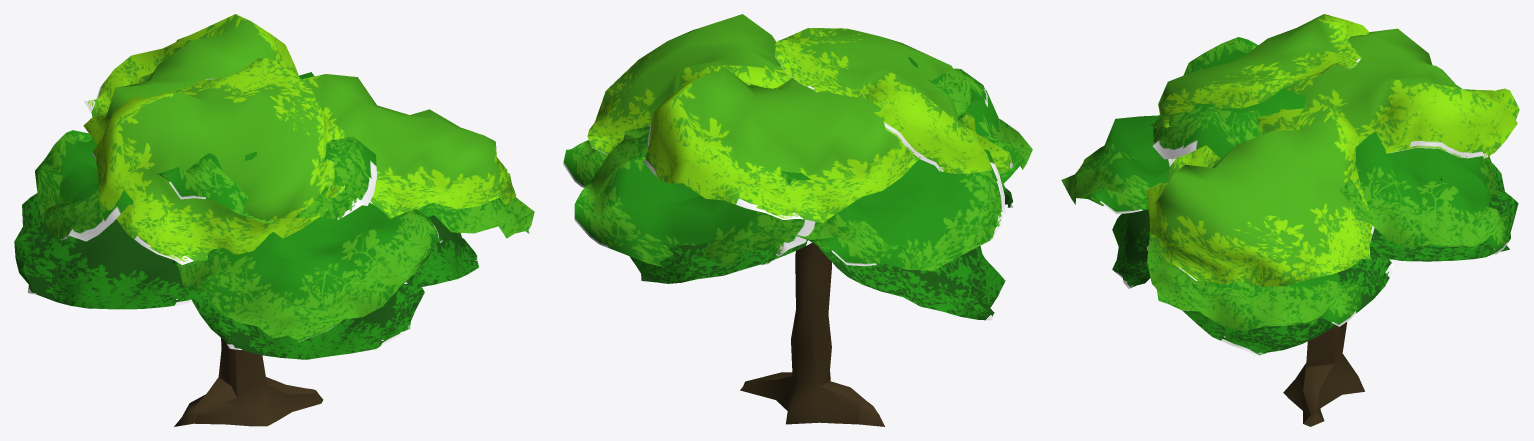
The model's file is dogwood.fbx.
The picture shows the model from 3 angles, left to right: view 1: azimuth 30°, elevation 25°; view 2: azimuth 150°, elevation 25°; view 3: azimuth 270°, elevation 25°; orthographic projection. The views are drawn at different scales.
Visible parts, largest first — view 1: pPlane18, pPlane14, pPlane17, pPlane10, pPlane19, pPlane6, pPlane13, pPlane15, pCube1, pPlane12, pPlane2; view 2: pPlane19, pPlane18, pPlane16, pPlane15, pPlane17, pCube1, pPlane10, pPlane11, pPlane14, pPlane13, pPlane12; view 3: pPlane17, pPlane19, pPlane16, pPlane18, pPlane12, pPlane13, pPlane14, pPlane2, pCube1, pPlane11, pPlane6.
Boxes of the visible parts, left/top/right/bottom form: pPlane18: left=92, top=58, right=344, bottom=264; pPlane14: left=172, top=203, right=442, bottom=342; pPlane17: left=302, top=74, right=516, bottom=217; pPlane10: left=14, top=193, right=192, bottom=309; pPlane19: left=83, top=14, right=298, bottom=144; pPlane6: left=188, top=261, right=424, bottom=359; pPlane13: left=157, top=136, right=376, bottom=223; pPlane15: left=35, top=130, right=133, bottom=241; pCube1: left=174, top=338, right=323, bottom=426; pPlane12: left=369, top=196, right=534, bottom=238; pPlane2: left=404, top=215, right=478, bottom=286; pPlane19: left=644, top=67, right=919, bottom=223; pPlane18: left=774, top=28, right=1012, bottom=173; pPlane16: left=574, top=88, right=815, bottom=267; pPlane15: left=792, top=149, right=1007, bottom=270; pPlane17: left=587, top=14, right=792, bottom=154; pCube1: left=740, top=242, right=884, bottom=426; pPlane10: left=818, top=246, right=1005, bottom=320; pPlane11: left=629, top=240, right=811, bottom=283; pPlane14: left=967, top=89, right=1032, bottom=184; pPlane13: left=908, top=57, right=987, bottom=120; pPlane12: left=563, top=140, right=607, bottom=187; pPlane17: left=1146, top=106, right=1374, bottom=286; pPlane19: left=1283, top=28, right=1519, bottom=158; pPlane16: left=1339, top=131, right=1510, bottom=254; pPlane18: left=1150, top=14, right=1369, bottom=128; pPlane12: left=1147, top=231, right=1361, bottom=331; pPlane13: left=1153, top=37, right=1306, bottom=159; pPlane14: left=1061, top=115, right=1169, bottom=214; pPlane2: left=1146, top=246, right=1396, bottom=356; pCube1: left=1283, top=322, right=1364, bottom=426; pPlane11: left=1369, top=163, right=1518, bottom=261; pPlane6: left=1112, top=209, right=1150, bottom=288.
Size of the model in its own units: 1627 by 1239 by 1500.
